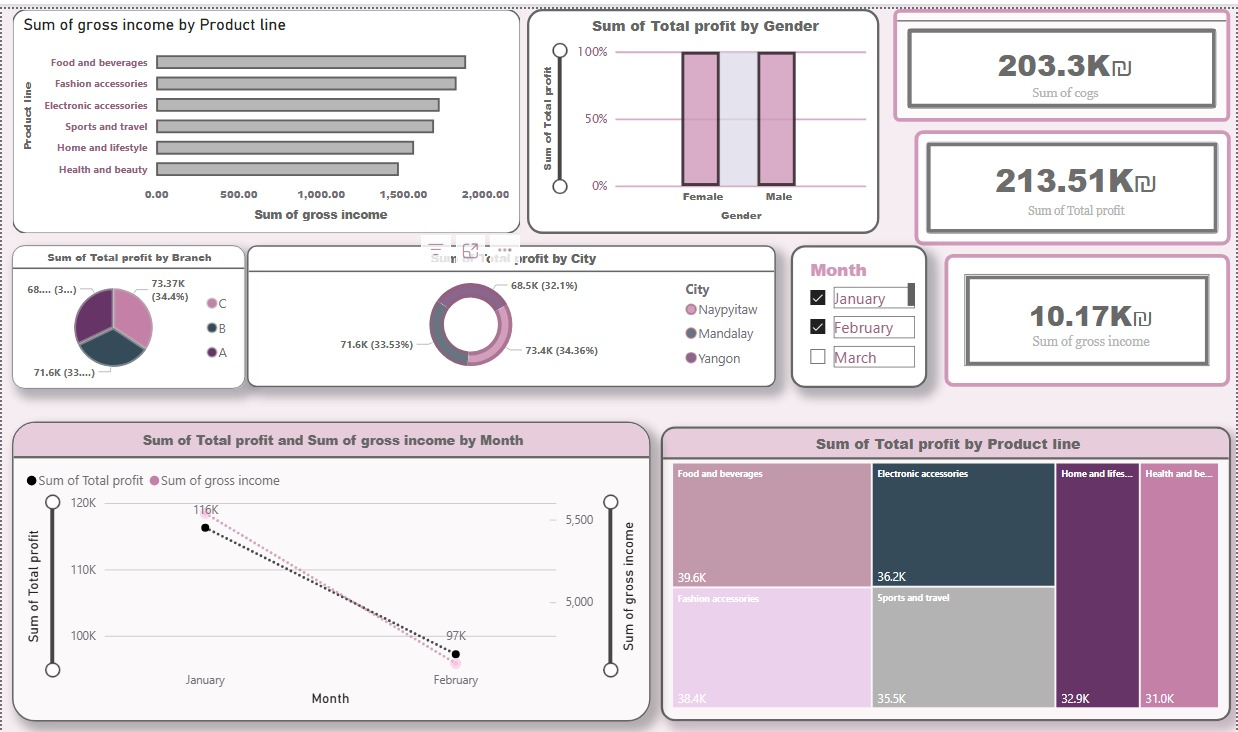

The dashboard page shown, as its layout file describes it:
{"tool":"powerbi","page":{"name":"Page 1","canvas":[1286,754],"ordinal":0},"visuals":[{"type":"cardVisual","fields":{"Data":["Sum(supermarket_sales - Sheet1.gross income)"]},"box":[982.6,255.6,297.9,138],"z":0},{"type":"cardVisual","fields":{"Data":["Sum(supermarket_sales - Sheet1.Total)"]},"box":[951.2,125.7,329.4,120.3],"z":1000},{"type":"cardVisual","fields":{"Data":["Sum(supermarket_sales - Sheet1.cogs)"]},"box":[929.3,0,351.2,117.5],"z":2000},{"type":"pieChart","fields":{"Category":["supermarket_sales - Sheet1.Branch"],"Y":["Sum(supermarket_sales - Sheet1.Total profit)"]},"box":[10.2,245.9,243.3,149.8],"z":3000},{"type":"donutChart","fields":{"Category":["supermarket_sales - Sheet1.City"],"Y":["Sum(supermarket_sales - Sheet1.Total profit)"]},"box":[255.6,245.8,551.5,148],"z":4000},{"type":"treemap","fields":{"Group":["supermarket_sales - Sheet1.Product line"],"Values":["Sum(supermarket_sales - Sheet1.Total profit)"]},"box":[686.4,435.4,594.2,307.3],"z":5000},{"type":"hundredPercentStackedColumnChart","fields":{"Category":["supermarket_sales - Sheet1.Gender"],"Y":["Sum(supermarket_sales - Sheet1.Total profit)"]},"box":[546.6,0,366.8,234.8],"z":6000},{"type":"lineChart","fields":{"Category":["supermarket_sales - Sheet1.Date.Variation.Date Hierarchy.Month"],"Y":["Sum(supermarket_sales - Sheet1.Total profit)"],"Y2":["Sum(supermarket_sales - Sheet1.gross income)"]},"box":[10.2,430.3,665.9,312.5],"z":8000},{"type":"clusteredBarChart","fields":{"Category":["supermarket_sales - Sheet1.Product line"],"Y":["Sum(supermarket_sales - Sheet1.gross income)"]},"box":[10.2,0,530.2,234.3],"z":9000},{"type":"slicer","fields":{"Values":["supermarket_sales - Sheet1.Date.Variation.Date Hierarchy.Month"]},"box":[822.1,245.9,142.1,148.5],"z":10000}]}

Visuals, with their boxes in screenshot pixels (x1, y1, x2, y2), scaled from the page's 1286x754 canvas onto the 1238x732 screenshot:
cardVisual - Sum(supermarket_sales - Sheet1.gross income): [x1=946, y1=248, x2=1233, y2=382]
cardVisual - Sum(supermarket_sales - Sheet1.Total): [x1=916, y1=122, x2=1233, y2=239]
cardVisual - Sum(supermarket_sales - Sheet1.cogs): [x1=895, y1=0, x2=1233, y2=114]
pieChart - supermarket_sales - Sheet1.Branch x Sum(supermarket_sales - Sheet1.Total profit): [x1=10, y1=239, x2=244, y2=384]
donutChart - supermarket_sales - Sheet1.City x Sum(supermarket_sales - Sheet1.Total profit): [x1=246, y1=239, x2=777, y2=382]
treemap - supermarket_sales - Sheet1.Product line x Sum(supermarket_sales - Sheet1.Total profit): [x1=661, y1=423, x2=1233, y2=721]
hundredPercentStackedColumnChart - supermarket_sales - Sheet1.Gender x Sum(supermarket_sales - Sheet1.Total profit): [x1=526, y1=0, x2=879, y2=228]
lineChart - supermarket_sales - Sheet1.Date.Variation.Date Hierarchy.Month x Sum(supermarket_sales - Sheet1.Total profit): [x1=10, y1=418, x2=651, y2=721]
clusteredBarChart - supermarket_sales - Sheet1.Product line x Sum(supermarket_sales - Sheet1.gross income): [x1=10, y1=0, x2=520, y2=227]
slicer - supermarket_sales - Sheet1.Date.Variation.Date Hierarchy.Month: [x1=791, y1=239, x2=928, y2=383]
